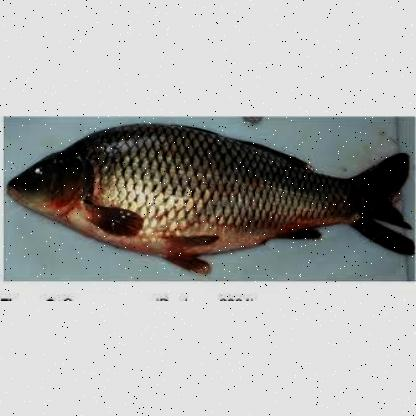ikan-mas: (7, 120, 414, 262)
